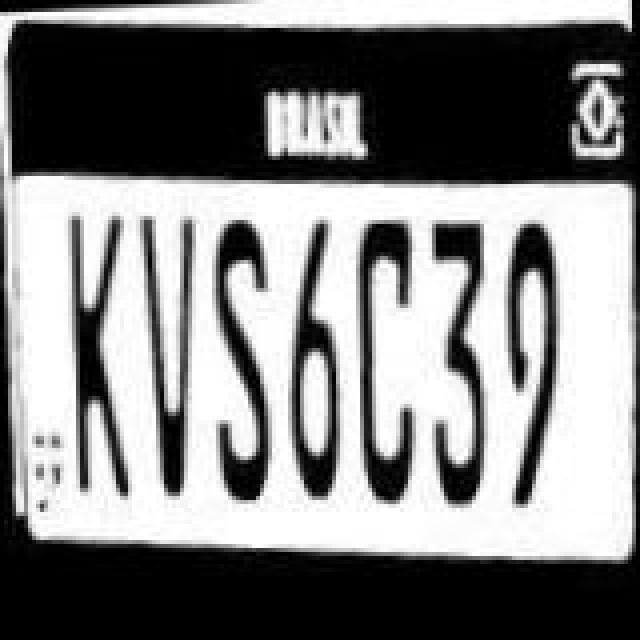3: (424, 202, 504, 518)
6: (278, 208, 362, 520)
9: (496, 206, 576, 518)
C: (354, 206, 430, 510)
K: (64, 202, 152, 514)
S: (202, 210, 286, 518)
V: (140, 208, 212, 504)
